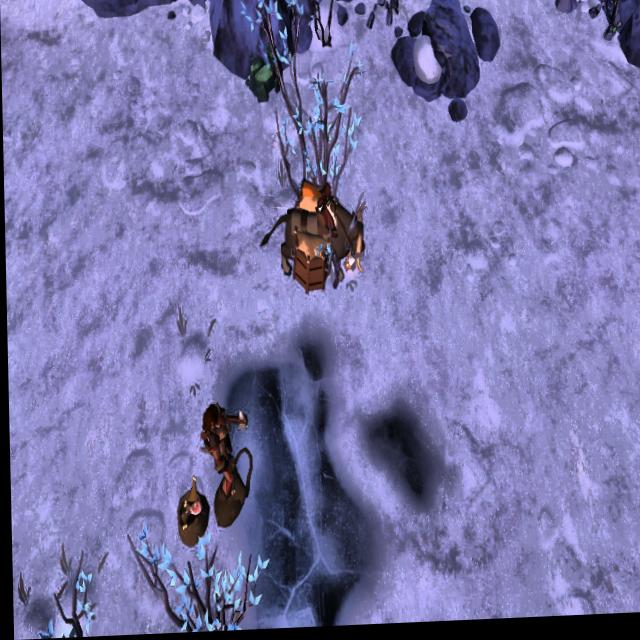ore_t3: (559, 0, 577, 16)
rock_t3: (242, 38, 289, 110)
